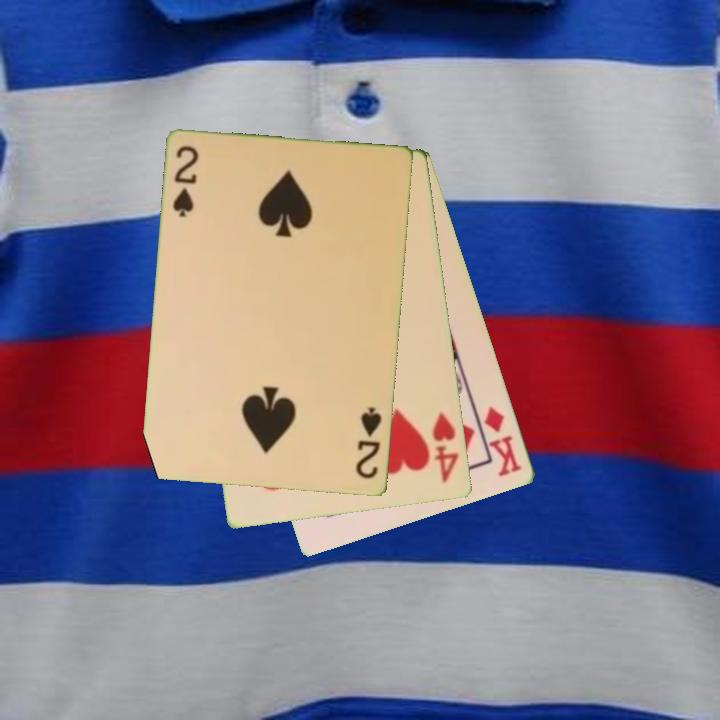2s: (352, 404, 385, 482), (169, 142, 202, 220)
4h: (429, 410, 462, 486)
Kd: (481, 403, 525, 480)
